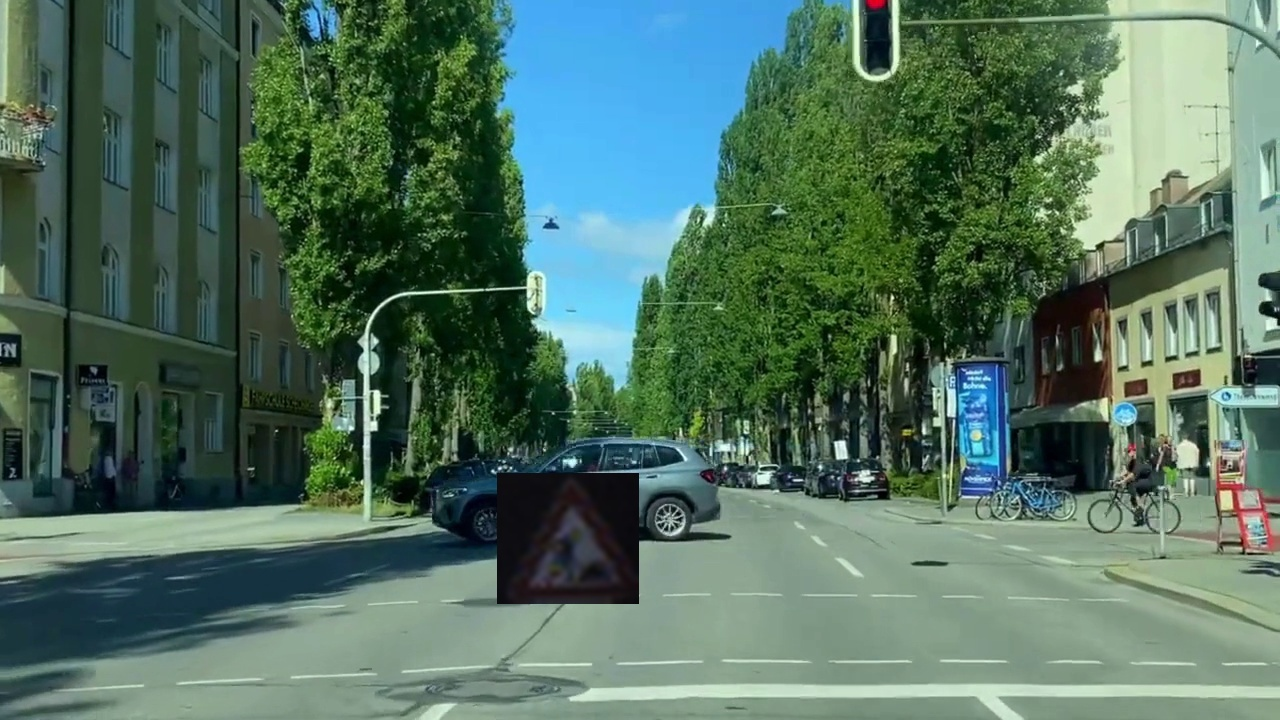Road work: (497, 473, 639, 604)
